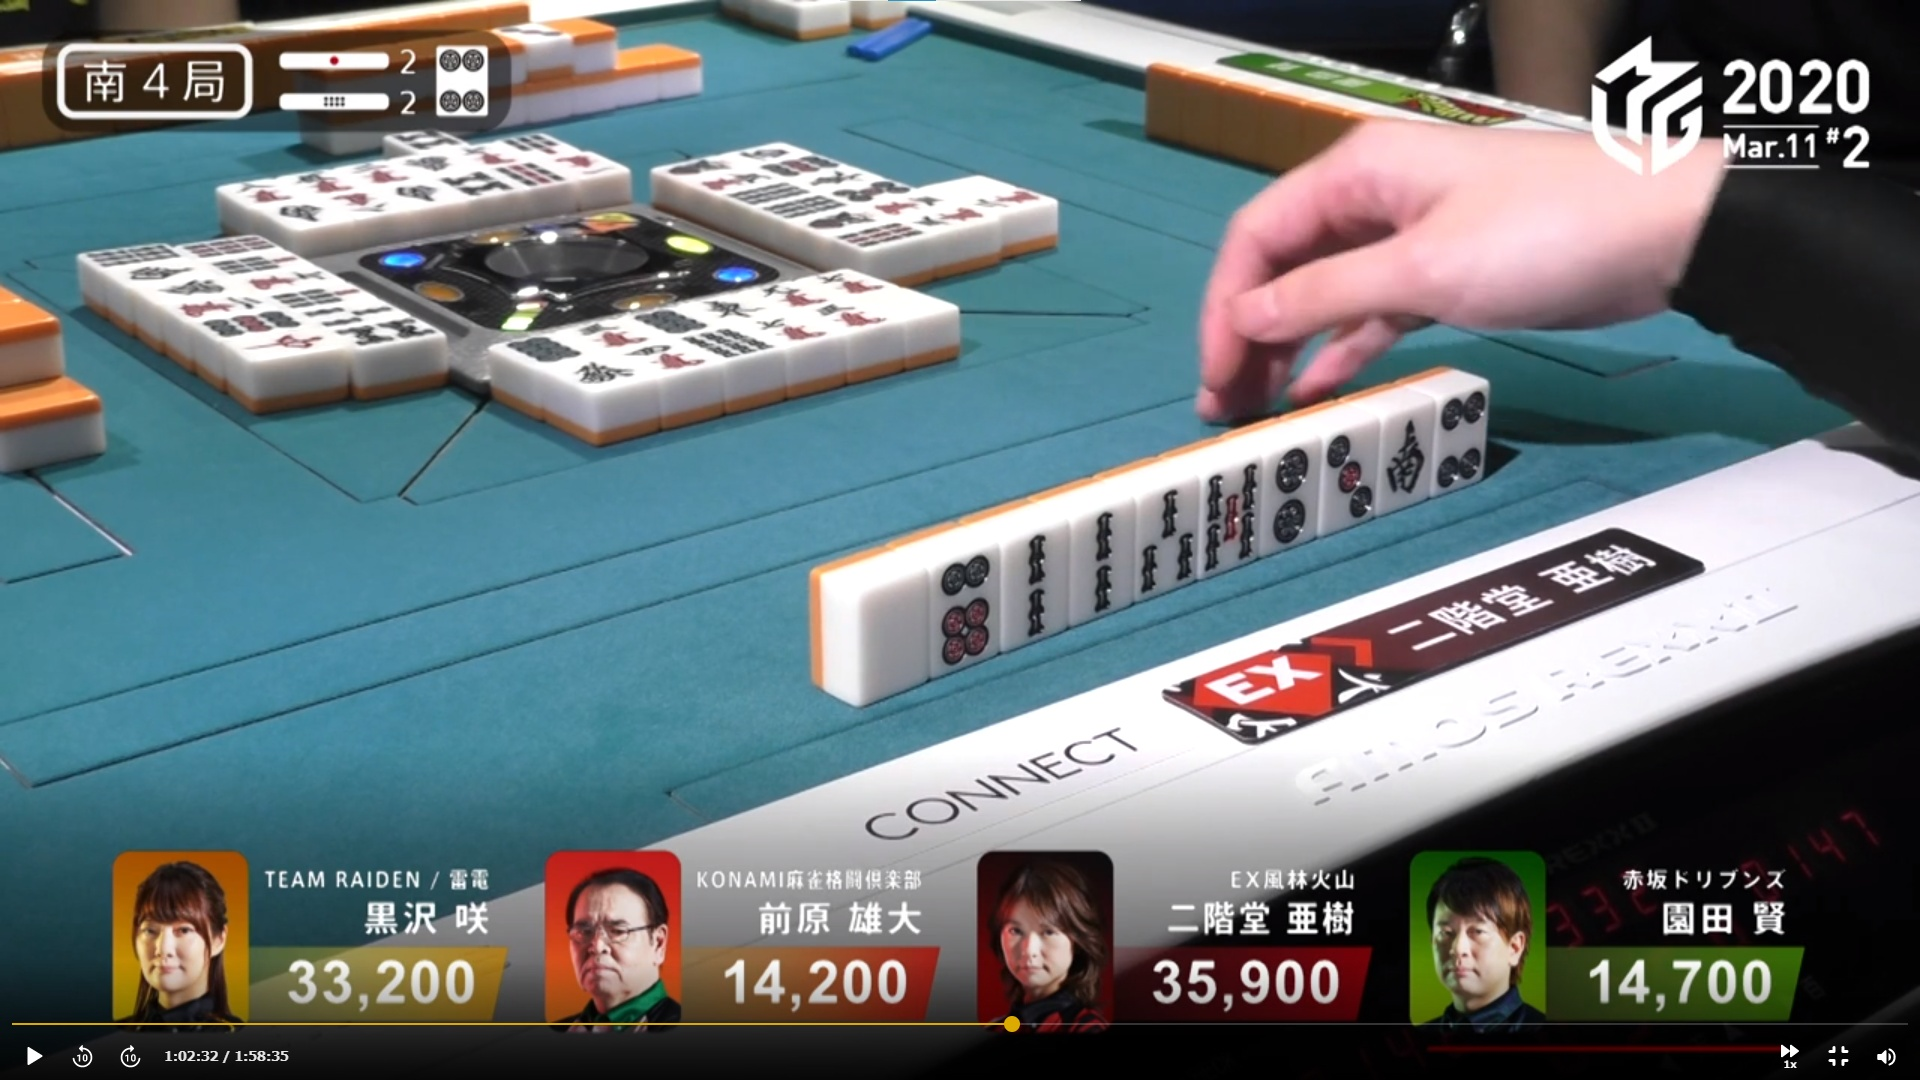2p: (1265, 440, 1312, 553)
2s: (1001, 526, 1067, 642), (1069, 506, 1135, 620)
3p: (1321, 418, 1377, 538)
3s: (1134, 480, 1195, 597)
4p: (1433, 385, 1484, 488)
5s: (1200, 459, 1262, 579)
6p: (932, 543, 1001, 669)
haku: (849, 543, 924, 698)
hand_nan_4: (51, 40, 258, 123)
nan: (1378, 404, 1427, 512)
round_2: (266, 84, 429, 119)
team_exfurinkazan: (1158, 617, 1414, 749)
